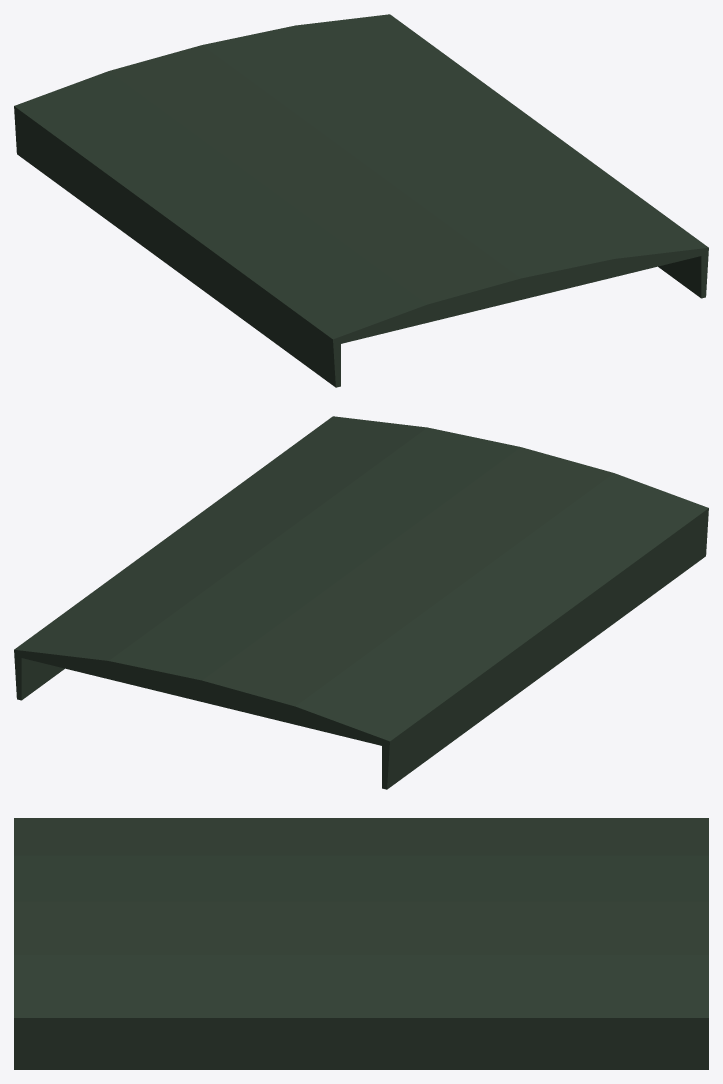
Rendered from Itr_Bed_Single_Blanket_16.FBX.
The picture shows the model from 3 angles, top to bottom: view 1: azimuth 30°, elevation 25°; view 2: azimuth 150°, elevation 25°; view 3: azimuth 270°, elevation 25°; orthographic projection. The views are drawn at different scales.
Visible parts, largest first — view 1: Itr_Bed_Single_Blanket_16; view 2: Itr_Bed_Single_Blanket_16; view 3: Itr_Bed_Single_Blanket_16.
Part boxes in pixels (x1,y1,x2,y2): Itr_Bed_Single_Blanket_16: (14, 14, 708, 387); Itr_Bed_Single_Blanket_16: (14, 416, 708, 789); Itr_Bed_Single_Blanket_16: (14, 818, 708, 1069).
Bounding box in the file's own units: 44.15 × 7.19 × 64.86.
